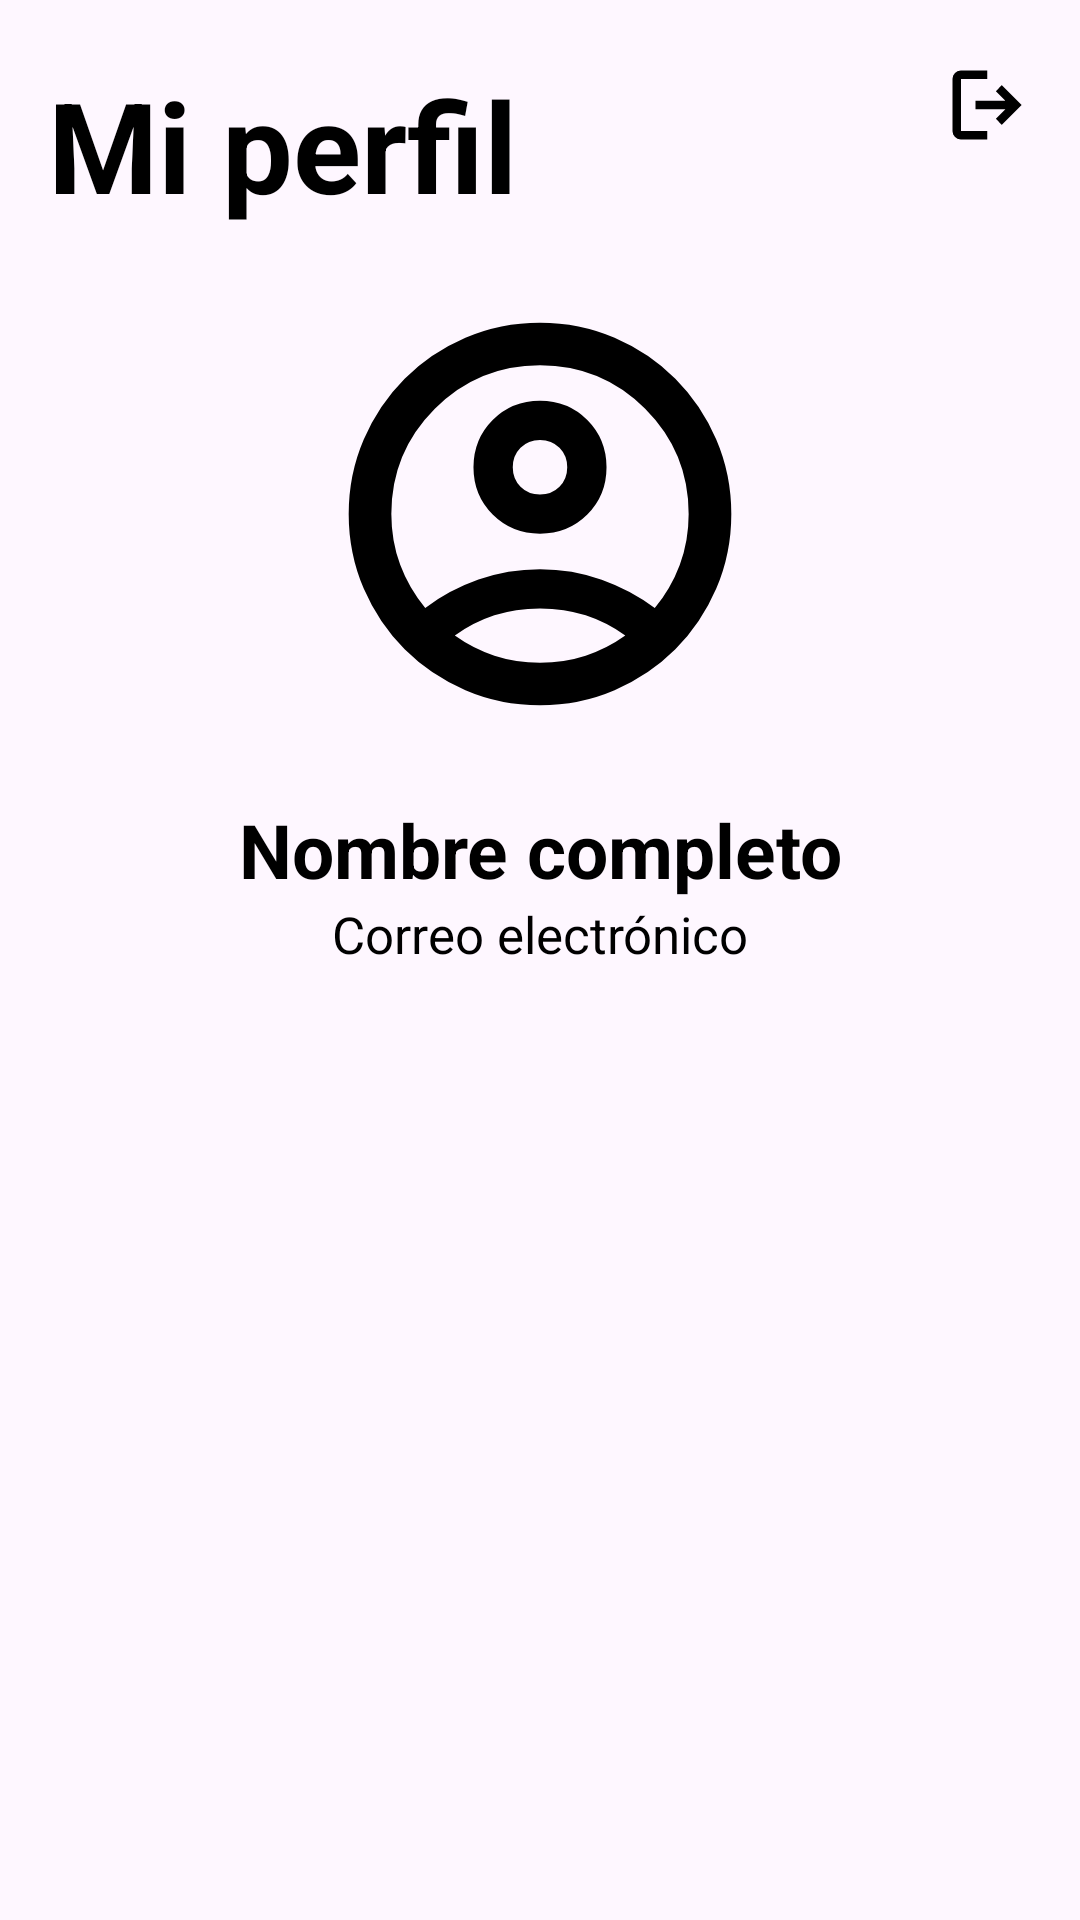

Icons on this 1080*1920 Android screen, each with its box as (x1, y1, x2, y2):
exit: (952, 70, 1022, 140)
